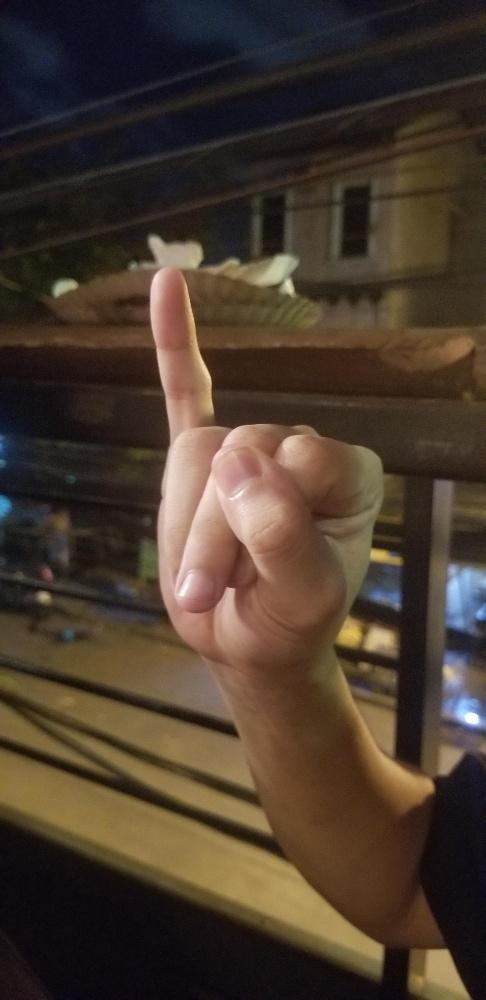i: (149, 264, 386, 668)
